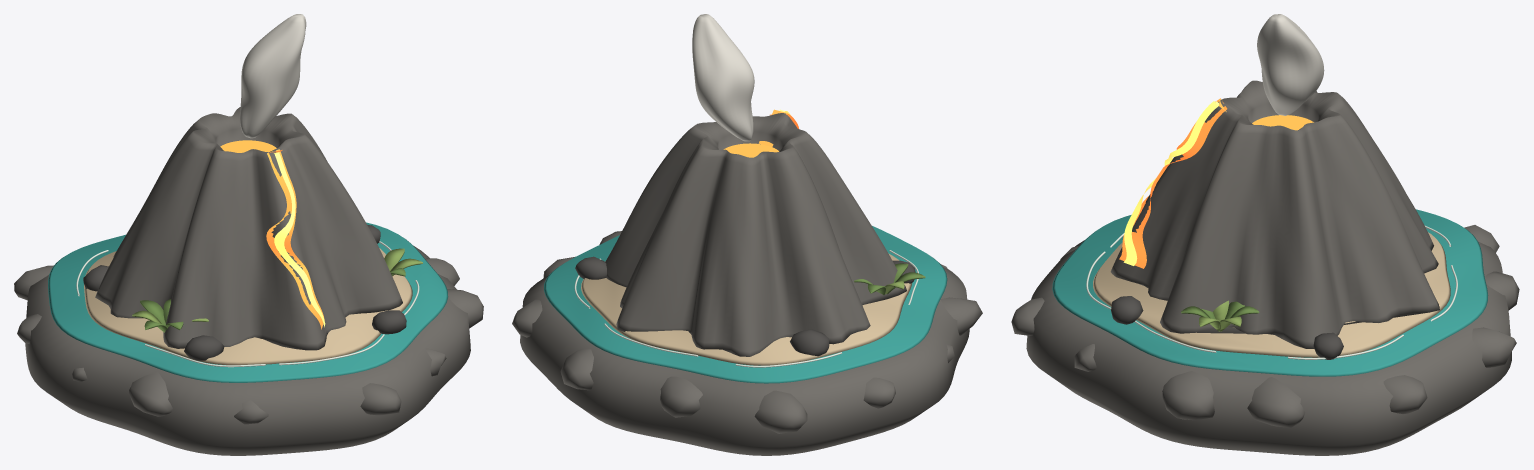
File: volcano-island-v2.fbx
3 renders of one model, left to right at view 1: azimuth 30°, elevation 25°; view 2: azimuth 150°, elevation 25°; view 3: azimuth 270°, elevation 25°, orthographic. The views are drawn at different scales.
Visible parts, largest first — view 1: Volcano | hollow fluted mountain, Rock | irregular island foundation, Water | enclosed turquoise lagoon, Sand | island shore, Smoke | blended plume, Lava | winding coral edge, Rock | shoreline boulder.007, Lava | winding golden center, Rock | shoreline boulder.009, Rock | shoreline boulder.011, Rock | beach stone, Rock | beach stone.001 (+3 smaller); view 2: Volcano | hollow fluted mountain, Rock | irregular island foundation, Water | enclosed turquoise lagoon, Sand | island shore, Smoke | blended plume, Rock | shoreline boulder.004, Rock | shoreline boulder.003, Rock | shoreline boulder.002, Rock | shoreline boulder.007, Rock | beach stone.003, Rock | shoreline boulder.005, Rock | shoreline boulder.001 (+2 smaller); view 3: Volcano | hollow fluted mountain, Rock | irregular island foundation, Water | enclosed turquoise lagoon, Sand | island shore, Smoke | blended plume, Rock | shoreline boulder.011, Rock | shoreline boulder, Lava | winding coral edge, Rock | shoreline boulder.001, Rock | shoreline boulder.002, Lava | winding golden center, Rock | shoreline boulder.009 (+4 smaller).
Boxes of the visible parts, left/top/right/bottom form: Volcano | hollow fluted mountain: left=95, top=107, right=402, bottom=350; Rock | irregular island foundation: left=25, top=245, right=470, bottom=455; Water | enclosed turquoise lagoon: left=48, top=222, right=448, bottom=382; Sand | island shore: left=84, top=248, right=412, bottom=365; Smoke | blended plume: left=240, top=14, right=306, bottom=138; Lava | winding coral edge: left=266, top=149, right=324, bottom=329; Rock | shoreline boulder.007: left=129, top=372, right=172, bottom=416; Lava | winding golden center: left=274, top=152, right=325, bottom=327; Rock | shoreline boulder.009: left=360, top=383, right=401, bottom=415; Rock | shoreline boulder.011: left=447, top=289, right=483, bottom=328; Rock | beach stone: left=184, top=335, right=224, bottom=360; Rock | beach stone.001: left=372, top=310, right=406, bottom=334; Volcano | hollow fluted mountain: left=605, top=113, right=906, bottom=356; Rock | irregular island foundation: left=520, top=267, right=969, bottom=455; Water | enclosed turquoise lagoon: left=544, top=226, right=947, bottom=383; Sand | island shore: left=581, top=253, right=911, bottom=365; Smoke | blended plume: left=692, top=14, right=754, bottom=141; Rock | shoreline boulder.004: left=754, top=390, right=807, bottom=433; Rock | shoreline boulder.003: left=660, top=376, right=702, bottom=417; Rock | shoreline boulder.002: left=560, top=349, right=593, bottom=390; Rock | shoreline boulder.007: left=940, top=297, right=982, bottom=335; Rock | beach stone.003: left=790, top=329, right=829, bottom=356; Rock | shoreline boulder.005: left=863, top=377, right=895, bottom=408; Rock | shoreline boulder.001: left=512, top=299, right=542, bottom=337; Volcano | hollow fluted mountain: left=1110, top=80, right=1439, bottom=348; Rock | irregular island foundation: left=1026, top=240, right=1511, bottom=455; Water | enclosed turquoise lagoon: left=1052, top=209, right=1488, bottom=376; Sand | island shore: left=1093, top=232, right=1450, bottom=357; Smoke | blended plume: left=1257, top=14, right=1324, bottom=115; Rock | shoreline boulder.011: left=1162, top=371, right=1214, bottom=420; Rock | shoreline boulder: left=1247, top=377, right=1305, bottom=427; Lava | winding coral edge: left=1119, top=98, right=1227, bottom=268; Rock | shoreline boulder.001: left=1383, top=375, right=1427, bottom=413; Rock | shoreline boulder.002: left=1472, top=327, right=1516, bottom=367; Lava | winding golden center: left=1123, top=101, right=1218, bottom=265; Rock | shoreline boulder.009: left=1011, top=297, right=1044, bottom=335.
Size of the model in its own units: 163 by 136 by 164.
